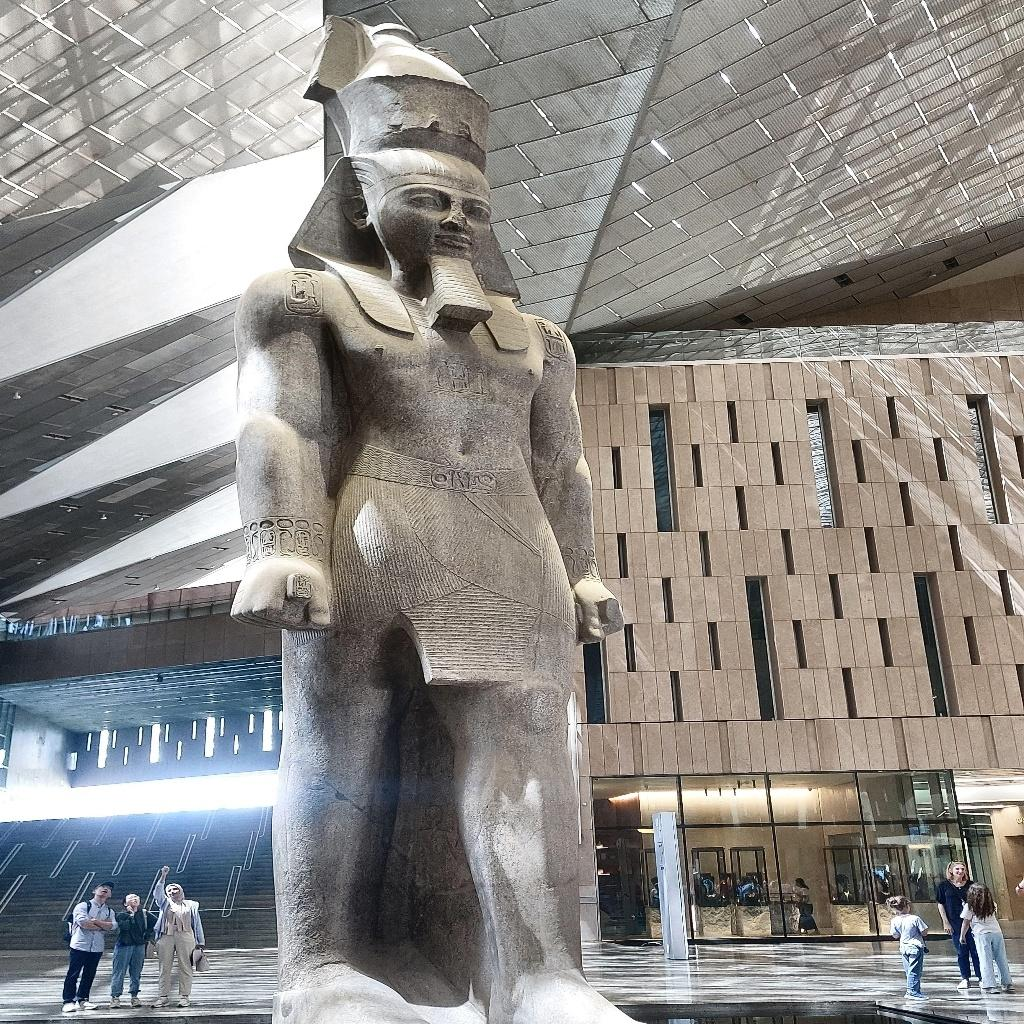Statue of King Ramses II Grand Egyptian Museum: (224, 14, 640, 1022)
